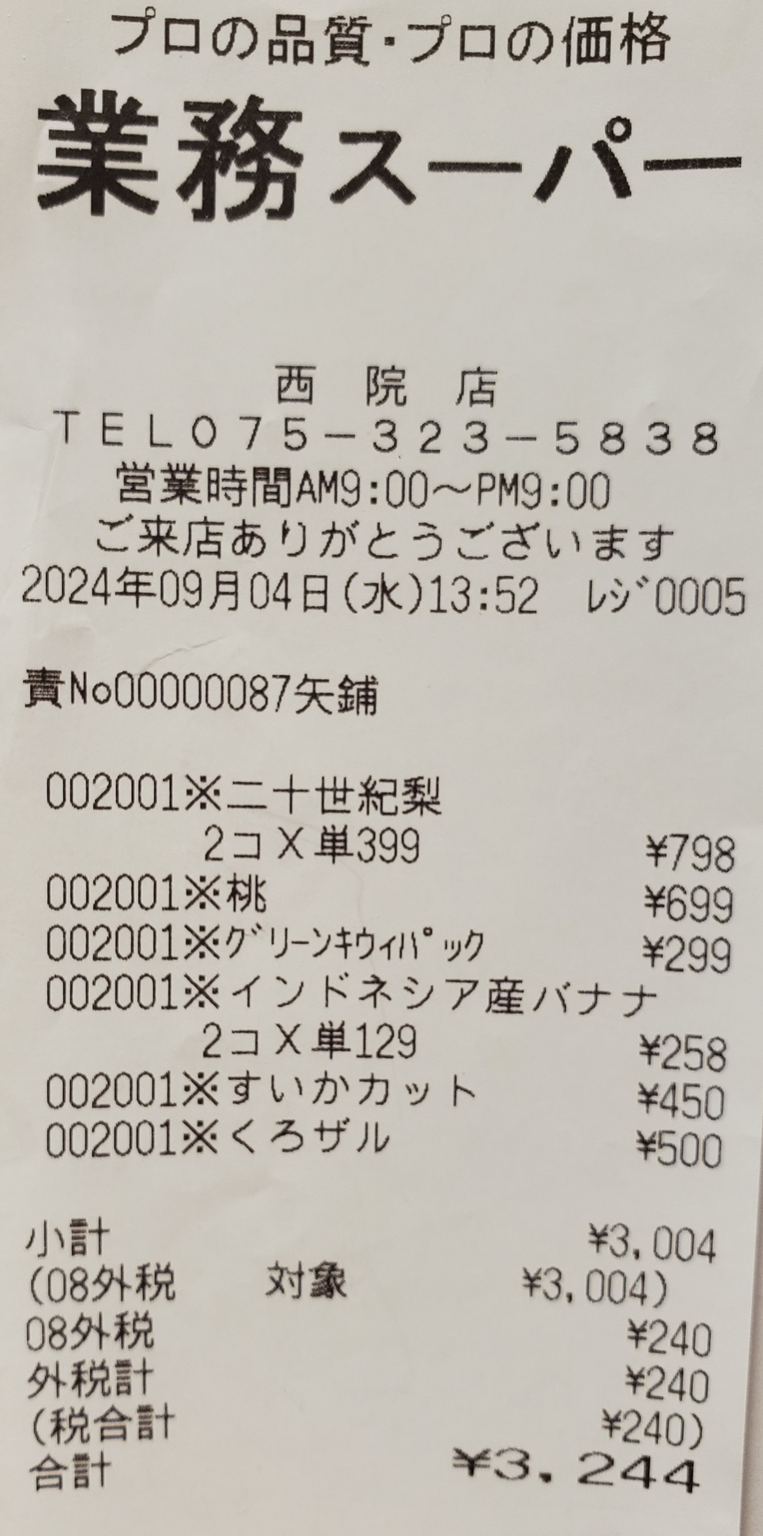Date: (18, 559, 344, 625)
Shopname: (20, 78, 757, 249)
Telnum: (182, 404, 743, 466)
Totalpay: (25, 1448, 727, 1507)
